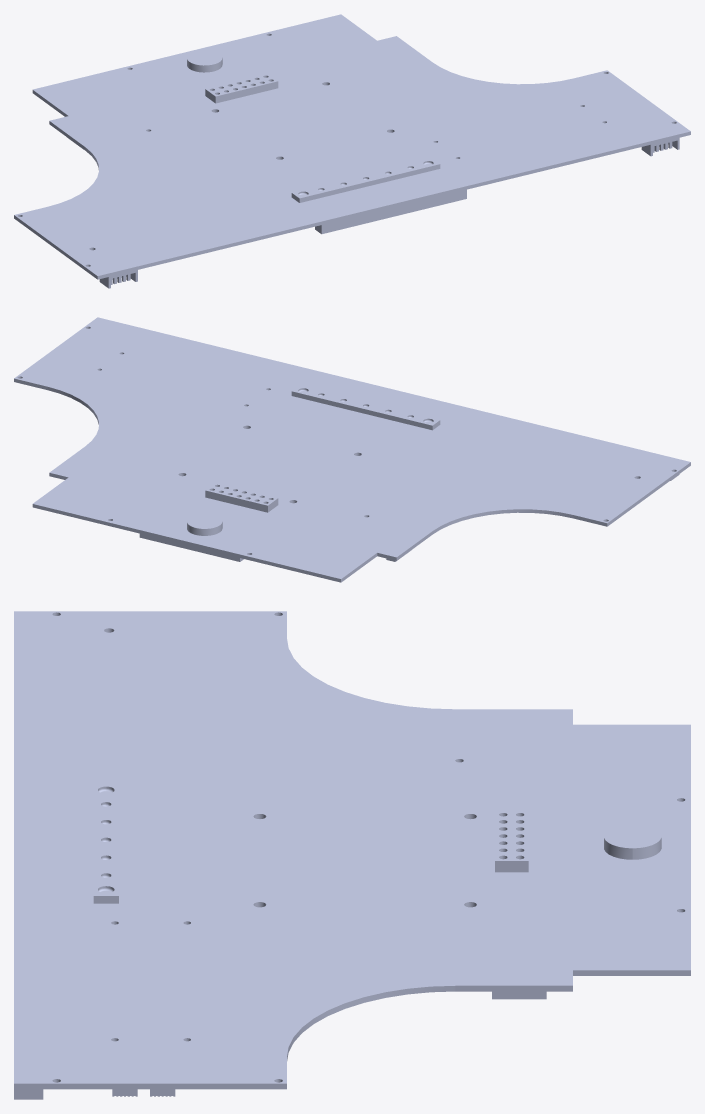
Rendered from motherboard.dae.
3 views of the same model, one above another, from view 1: azimuth 30°, elevation 25°; view 2: azimuth 150°, elevation 25°; view 3: azimuth 270°, elevation 25° (orthographic). The views are drawn at different scales.
Visible parts, largest first — view 1: motherboard; view 2: motherboard; view 3: motherboard.
Boxes of the visible parts, bbox=[...] form: motherboard: bbox=[14, 14, 690, 288]; motherboard: bbox=[14, 317, 690, 582]; motherboard: bbox=[14, 611, 690, 1099].
Bounding box in the file's own units: 2.65 × 0.105 × 1.61.
